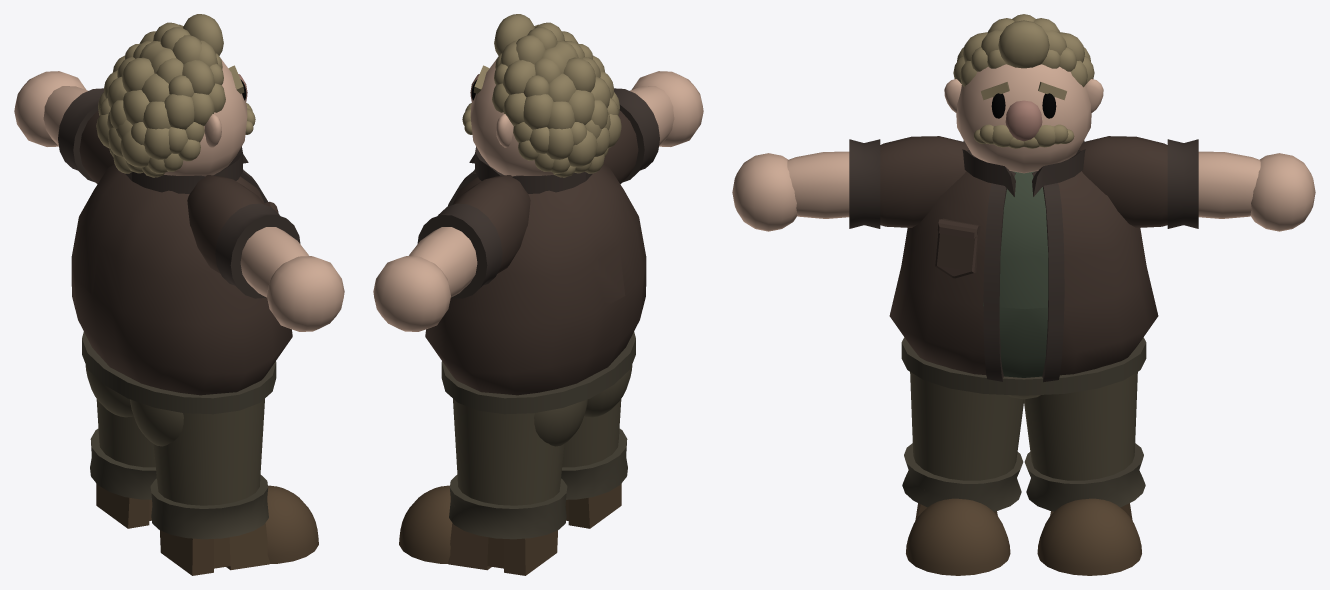
Rendered from FATMAN brown shirt.fbx.
3 renders of one model, left to right at view 1: azimuth 30°, elevation 25°; view 2: azimuth 150°, elevation 25°; view 3: azimuth 270°, elevation 25°, orthographic.
Visible parts, largest first — view 1: polySurface17; view 2: polySurface17; view 3: polySurface17.
Boxes of the visible parts, x1,y1,x2,y2 form: polySurface17: [14, 14, 344, 575]; polySurface17: [373, 14, 703, 575]; polySurface17: [732, 14, 1315, 575].
Bounding box in the file's own units: 0.0378 × 0.0985 × 0.1009.
